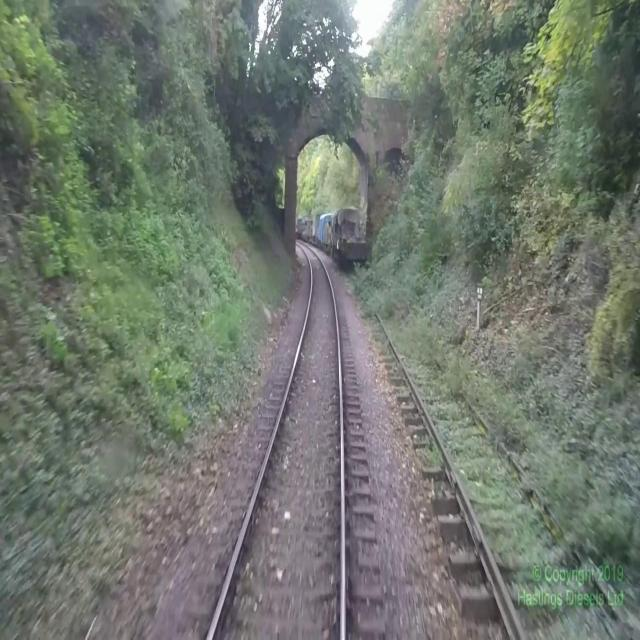rail-track: (350, 271, 636, 639), (212, 241, 341, 639)
